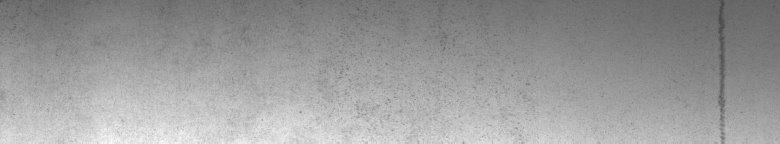hd: (712, 4, 728, 136)
